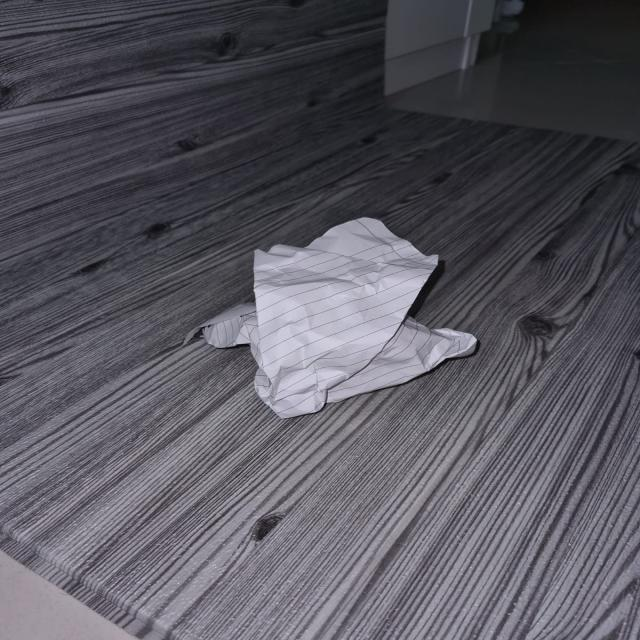Paper: (196, 217, 483, 416)
